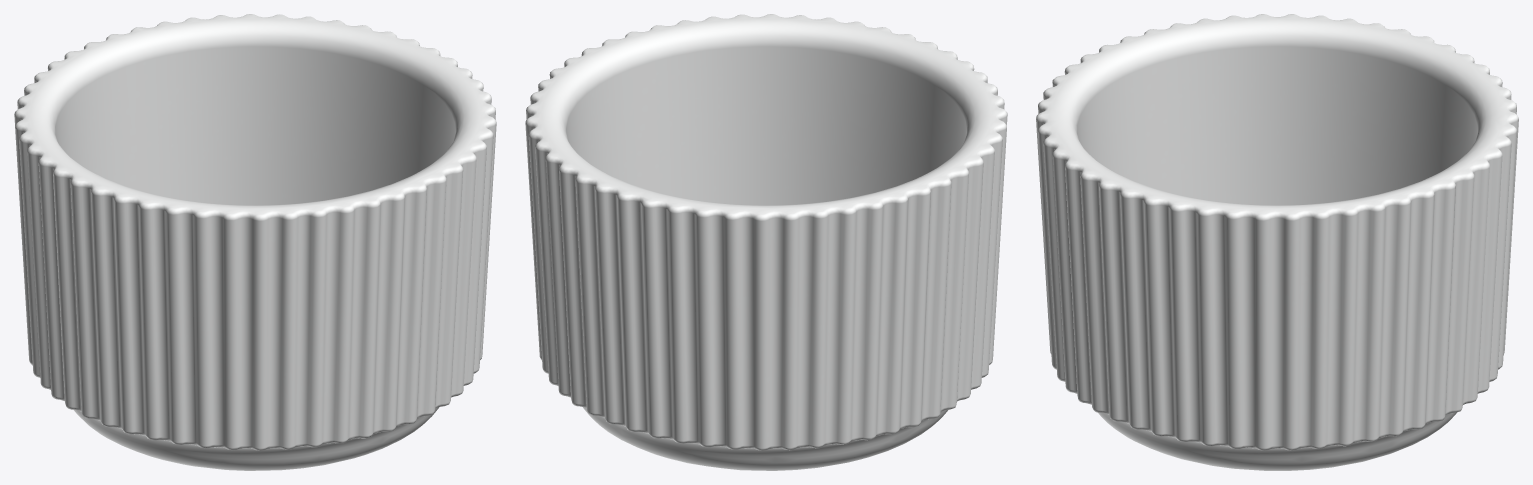
File: finsmak_swiecznik_na_tealighty_00470982.glb
3 renders of one model, left to right at view 1: azimuth 30°, elevation 25°; view 2: azimuth 150°, elevation 25°; view 3: azimuth 270°, elevation 25°, orthographic.
Visible parts, largest first — view 1: finsmak_swiecznik_na_tealighty_00470982; view 2: finsmak_swiecznik_na_tealighty_00470982; view 3: finsmak_swiecznik_na_tealighty_00470982.
Boxes of the visible parts, x1=… form: finsmak_swiecznik_na_tealighty_00470982: x1=14, y1=14, x2=496, y2=470; finsmak_swiecznik_na_tealighty_00470982: x1=525, y1=14, x2=1007, y2=470; finsmak_swiecznik_na_tealighty_00470982: x1=1036, y1=14, x2=1518, y2=470.
Size of the model in its own units: 0.0537 by 0.035 by 0.0538.
1 material, 1 textured.
